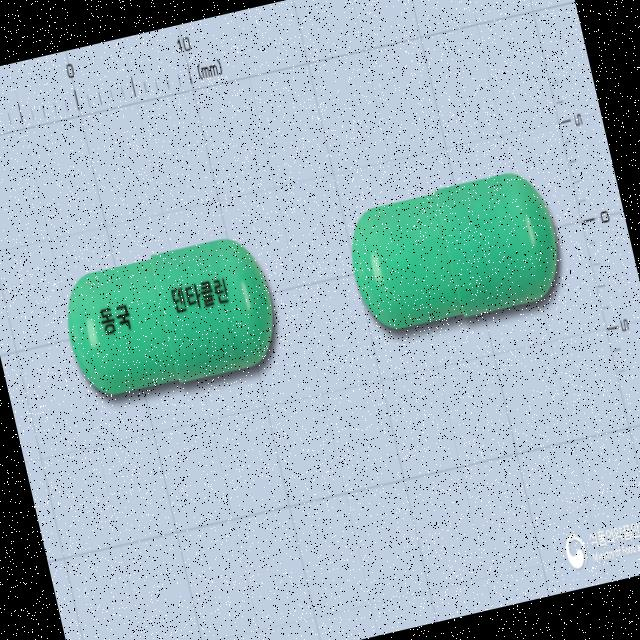Dentacline Cap: (338, 161, 571, 341), (54, 226, 286, 406)
